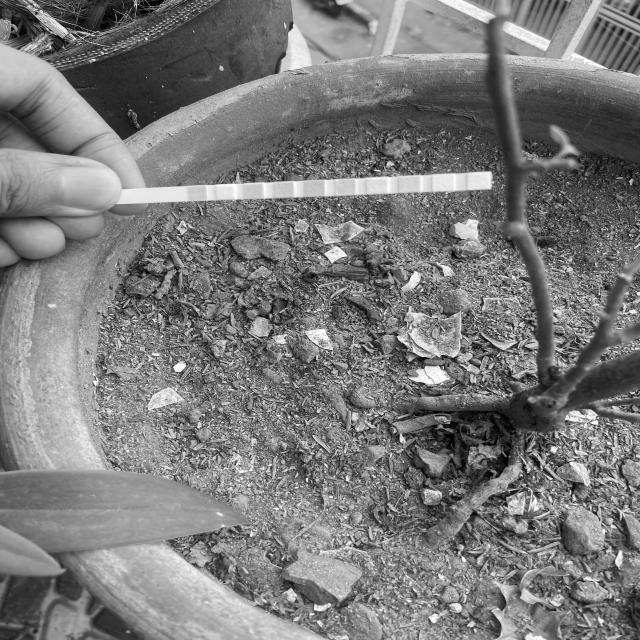Bilirubin: (217, 185, 235, 200)
Blood: (304, 181, 324, 196)
Glucose: (188, 186, 206, 201)
Ketone: (244, 184, 264, 198)
Leukocytes: (468, 173, 490, 189)
Nitrite: (432, 175, 453, 190)
Protein: (367, 178, 387, 194)
SpGravity: (274, 182, 294, 198)
Urobilinogen: (399, 177, 420, 192)
background: (0, 0, 640, 640)
pH: (336, 180, 355, 195)
strip: (129, 171, 491, 204)
